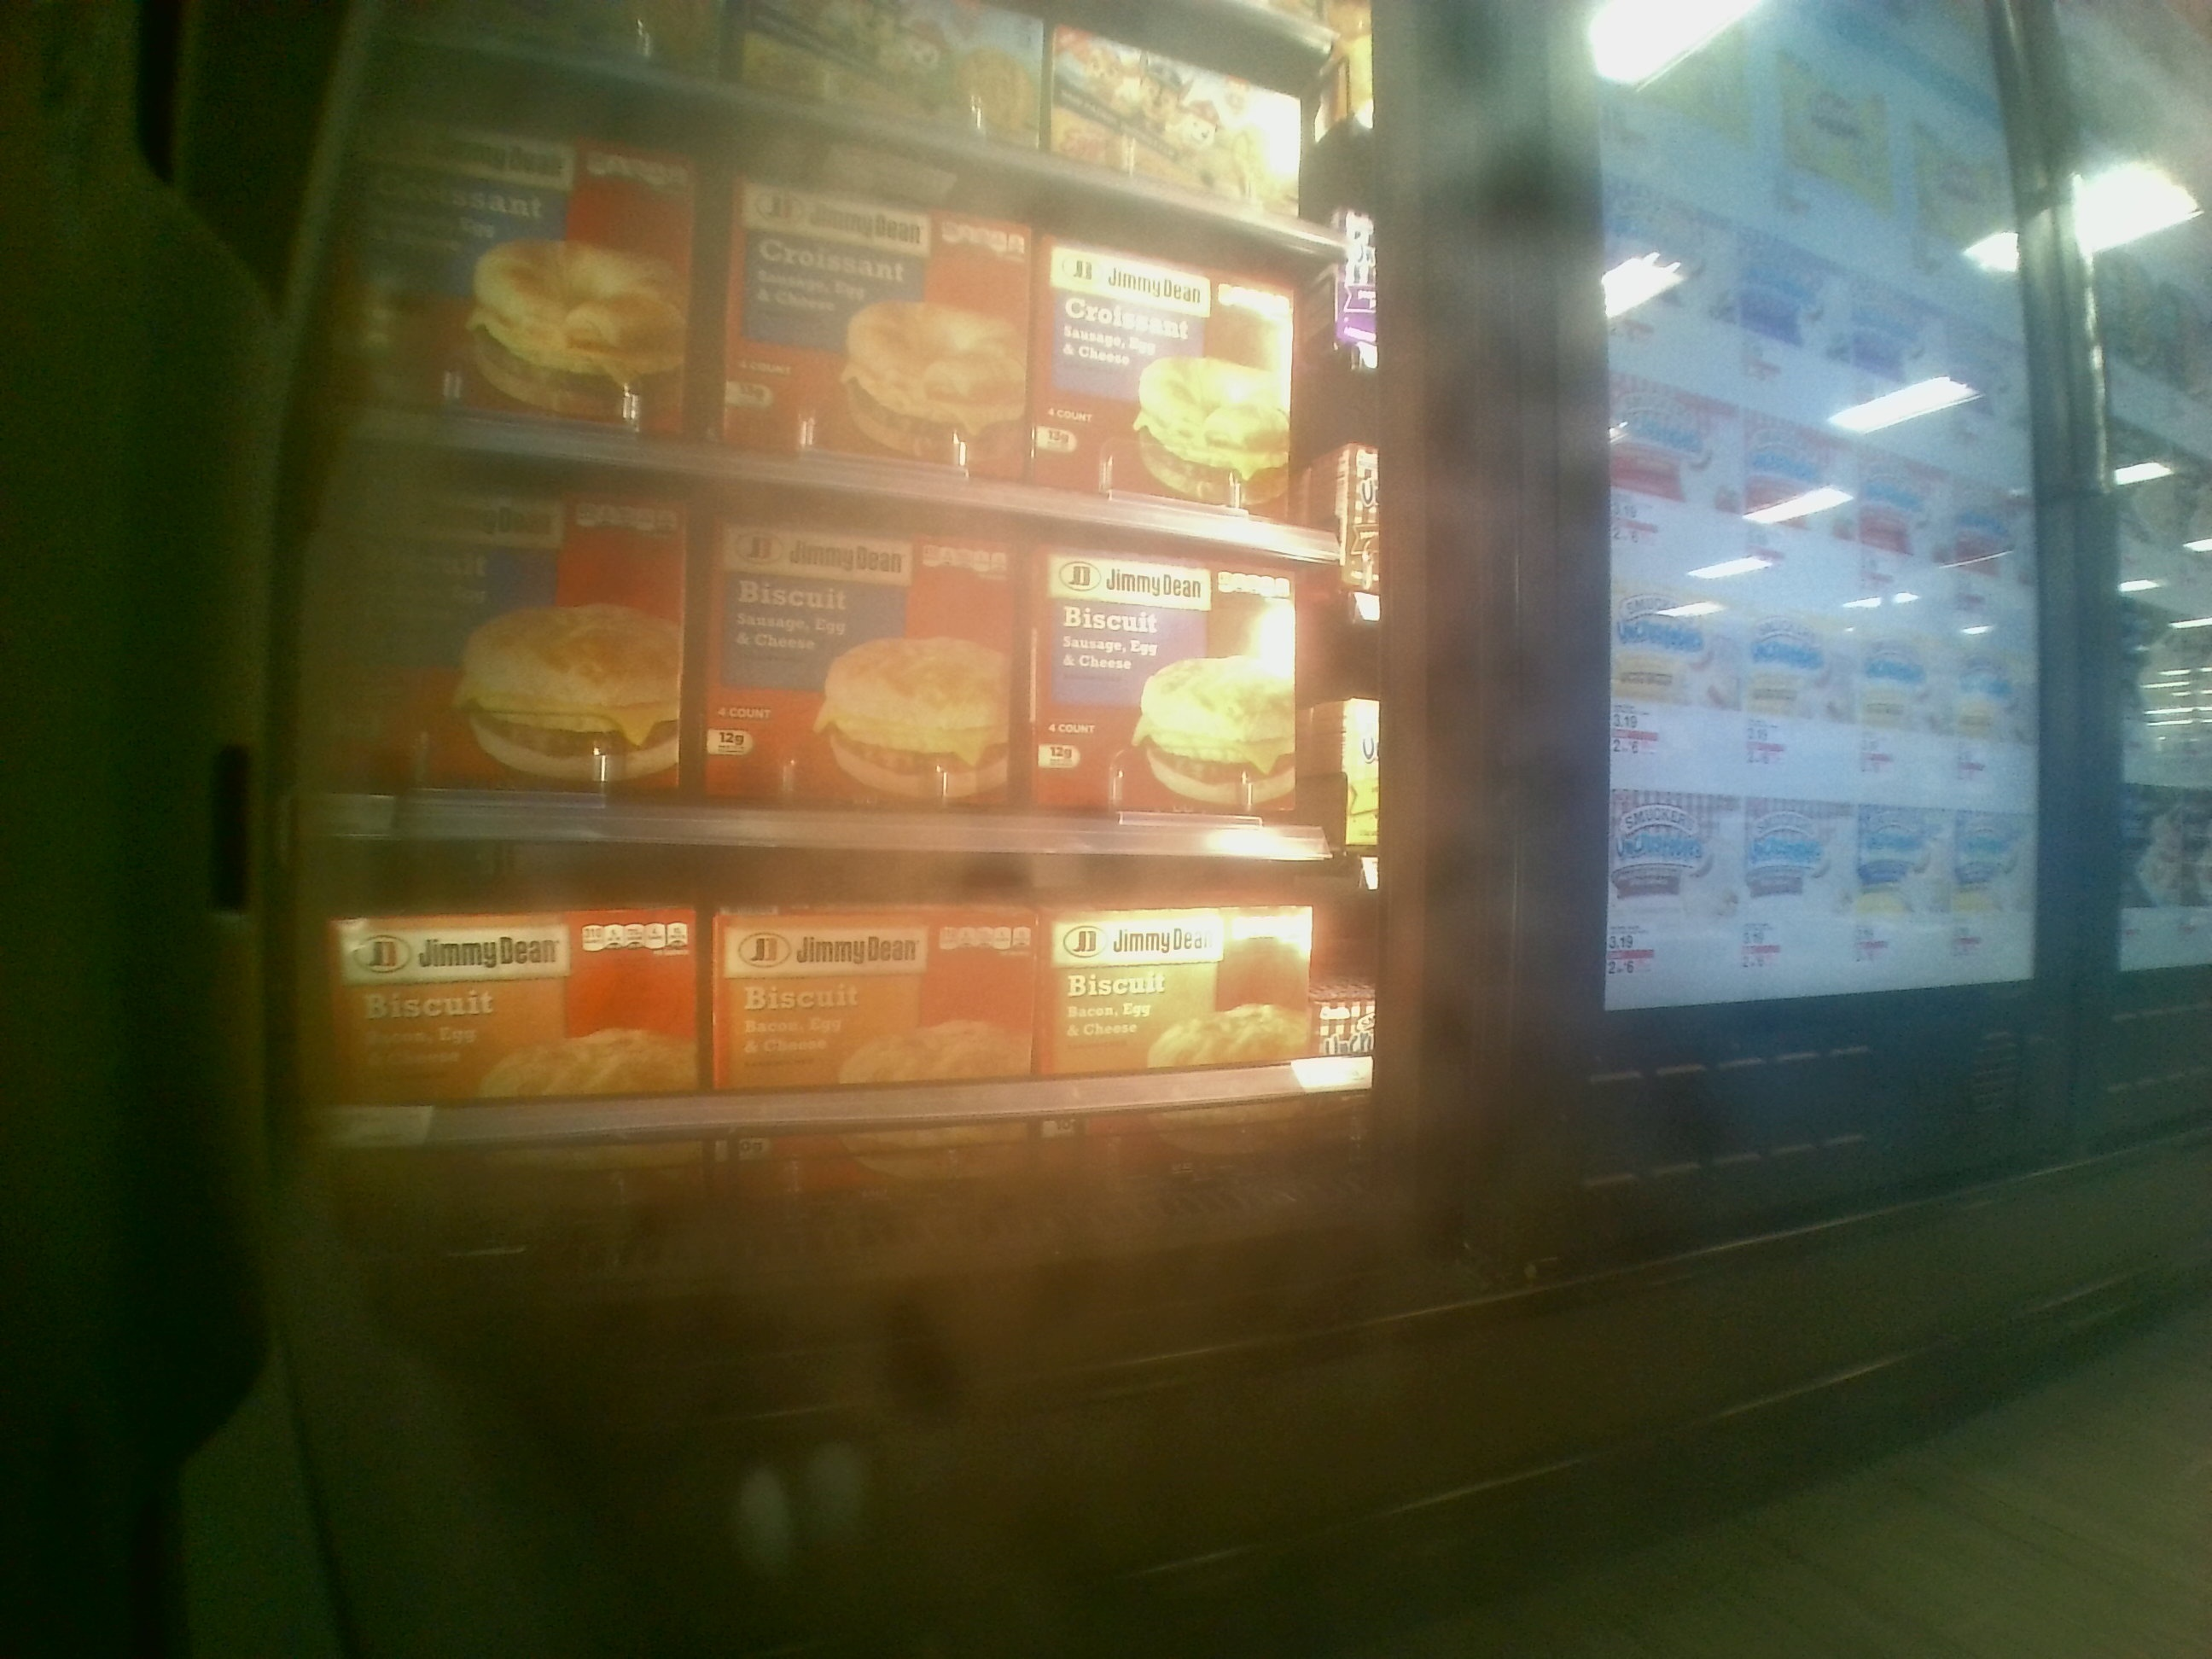shelf: (315, 430, 1353, 843), (319, 847, 1378, 1236)
